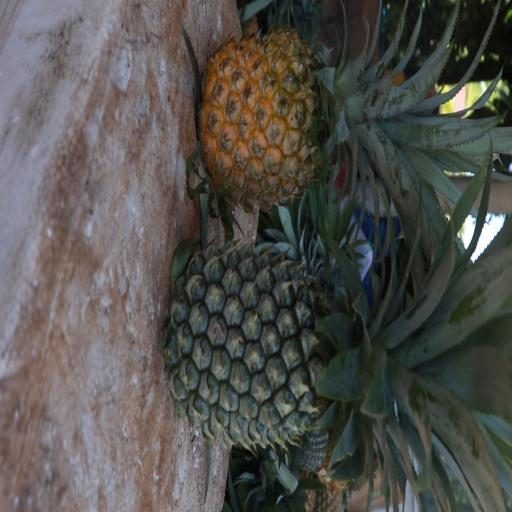Pineapple - v8 v1: (201, 37, 477, 199)
